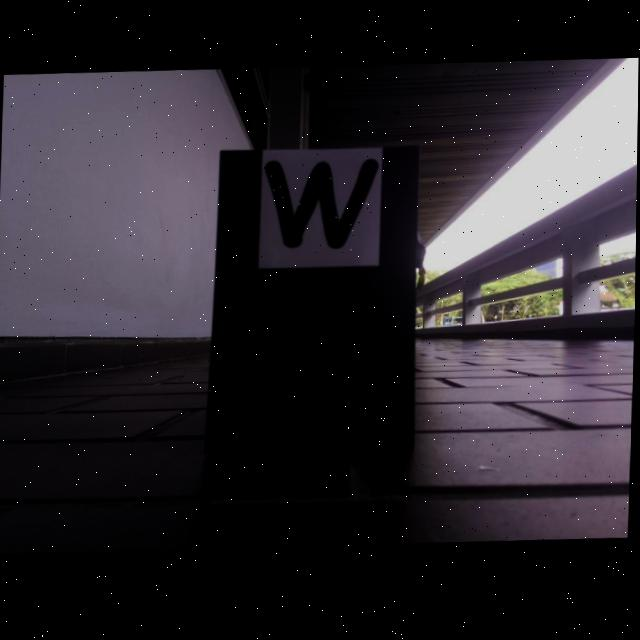W: (262, 159, 381, 256)
